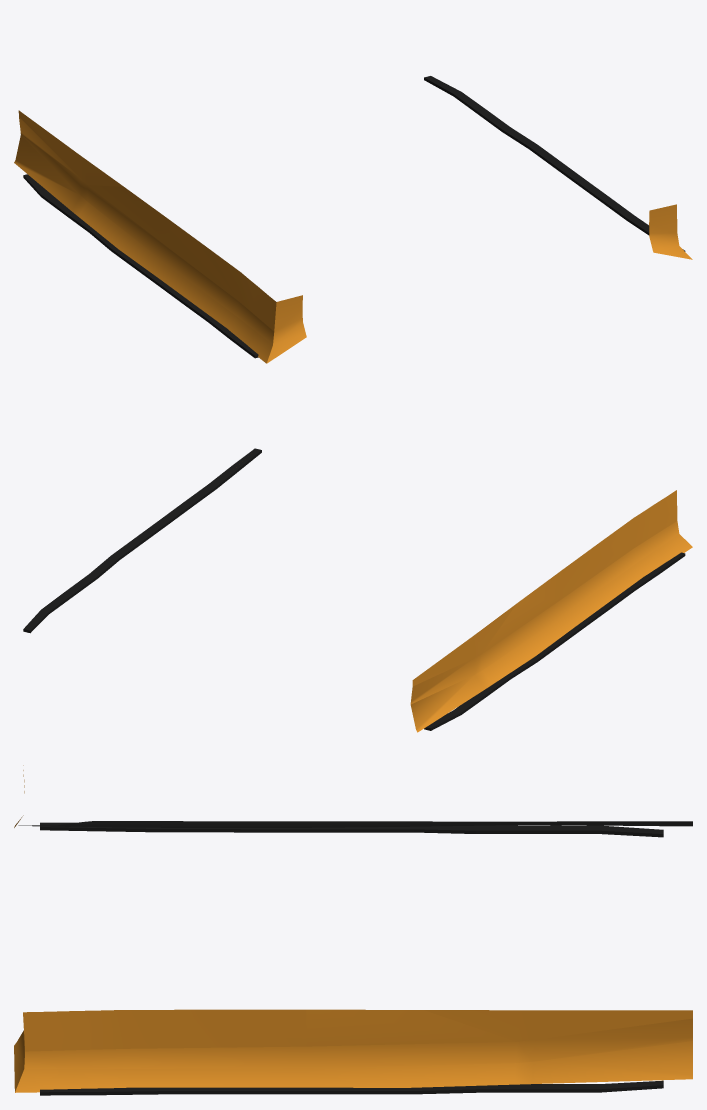
Rendered from protoCompact_sideSkirts_hayate.glb.
The picture shows the model from 3 angles, top to bottom: view 1: azimuth 30°, elevation 25°; view 2: azimuth 150°, elevation 25°; view 3: azimuth 270°, elevation 25°; orthographic projection. The views are drawn at different scales.
Visible parts, largest first — view 1: sideSkirts_hayate; view 2: sideSkirts_hayate; view 3: sideSkirts_hayate.
Part boxes in pixels (box(x1,y1,x2,y2)): sideSkirts_hayate: box(14, 76, 692, 363); sideSkirts_hayate: box(23, 448, 692, 732); sideSkirts_hayate: box(14, 765, 692, 1095).
Bounding box in the file's own units: 1.74 × 0.2223 × 1.85.
